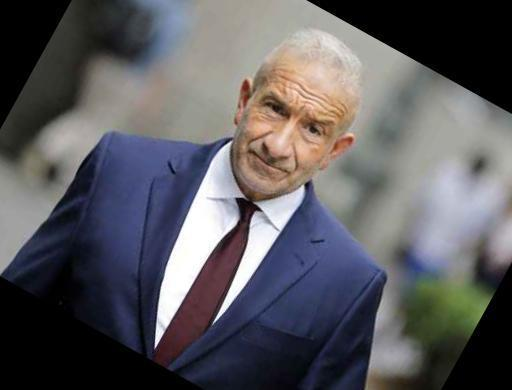Sober: (250, 67, 335, 185)
